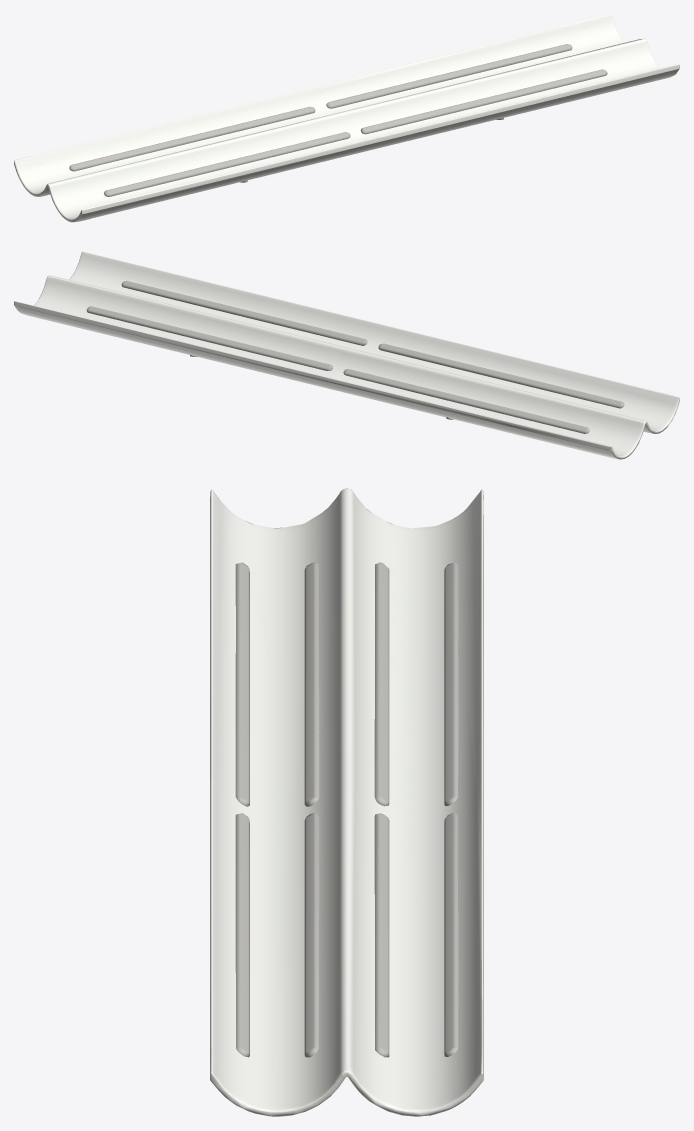
Rendered from uppdatera_uchwyt_na_przyprawy_50600575.glb.
The picture shows the model from 3 angles, top to bottom: view 1: azimuth 30°, elevation 25°; view 2: azimuth 150°, elevation 25°; view 3: azimuth 270°, elevation 25°; orthographic projection. The views are drawn at different scales.
Parts seen in each view (by area): view 1: uppdatera_uchwyt_na_przyprawy_50600575; view 2: uppdatera_uchwyt_na_przyprawy_50600575; view 3: uppdatera_uchwyt_na_przyprawy_50600575.
Boxes of the visible parts, x1,y1,x2,y2 form: uppdatera_uchwyt_na_przyprawy_50600575: [14, 14, 679, 222]; uppdatera_uchwyt_na_przyprawy_50600575: [14, 251, 679, 459]; uppdatera_uchwyt_na_przyprawy_50600575: [210, 488, 483, 1116].
Bounding box in the file's own units: 0.4949 × 0.0192 × 0.0982.
Materials: 1 (1 with a texture image).
